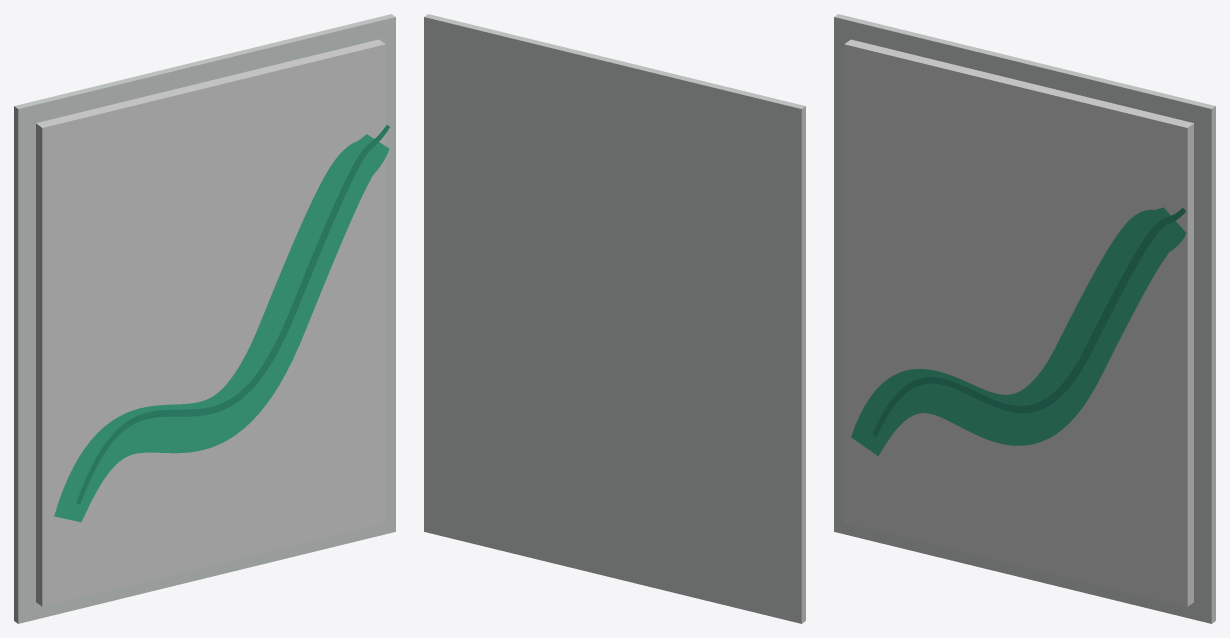
The model's file is scene-01-canvas.glb.
3 views of the same model, side by side, from view 1: azimuth 30°, elevation 25°; view 2: azimuth 150°, elevation 25°; view 3: azimuth 330°, elevation 25° (orthographic).
Visible parts, largest first — view 1: canvas, frame, stroke, stroke-trace; view 2: frame; view 3: canvas, frame, stroke, stroke-trace.
Boxes of the visible parts, x1,y1,x2,y2 form: canvas: (36,39,385,606); frame: (14,14,395,623); stroke: (54,134,389,522); stroke-trace: (76,125,389,503); frame: (424,14,805,623); canvas: (844,39,1193,606); frame: (834,14,1215,623); stroke: (851,207,1186,456); stroke-trace: (872,208,1185,436).
Size of the model in its own units: 2.64 by 3.44 by 0.17.
